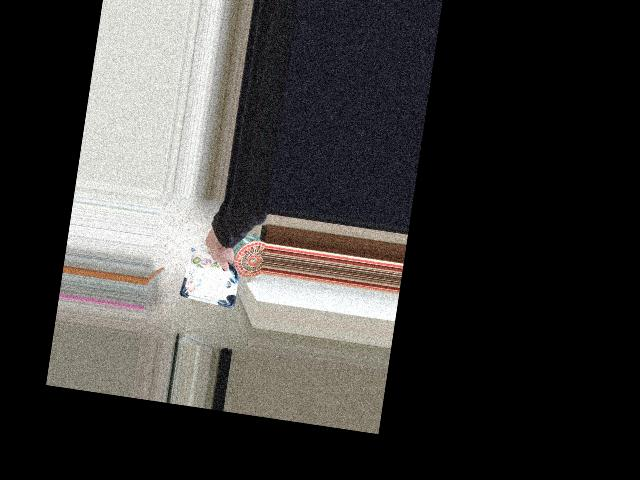cheese: (182, 228, 246, 297)
